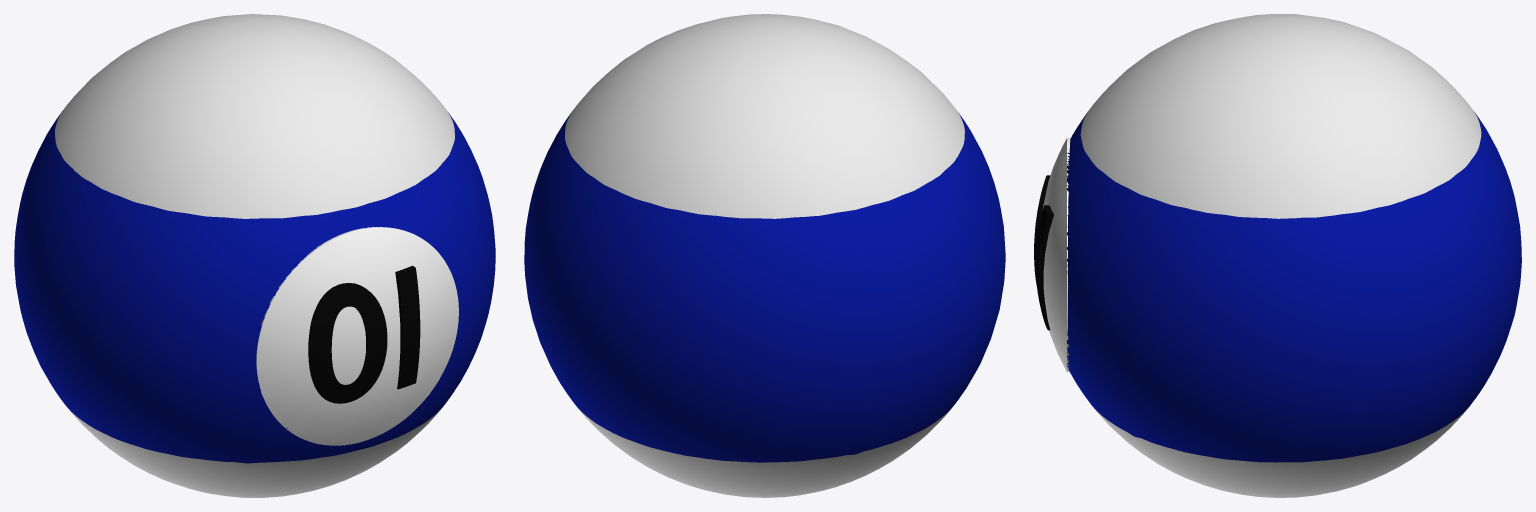
Rendered from Pool.glb.
3 views of the same model, side by side, from view 1: azimuth 30°, elevation 25°; view 2: azimuth 150°, elevation 25°; view 3: azimuth 270°, elevation 25° (orthographic).
Visible parts, largest first — view 1: Sphere, Sphere.001, Text; view 2: Sphere; view 3: Sphere, Sphere.001, Text.
Boxes of the visible parts, box(x1,y1,x2,y2) form: Sphere: box(14, 14, 495, 497); Sphere.001: box(256, 227, 458, 445); Text: box(308, 265, 420, 403); Sphere: box(524, 14, 1005, 497); Sphere: box(1066, 14, 1521, 497); Sphere.001: box(1039, 138, 1070, 372); Text: box(1034, 175, 1053, 330).
Bounding box in the file's own units: 1.98 × 2 × 2.
